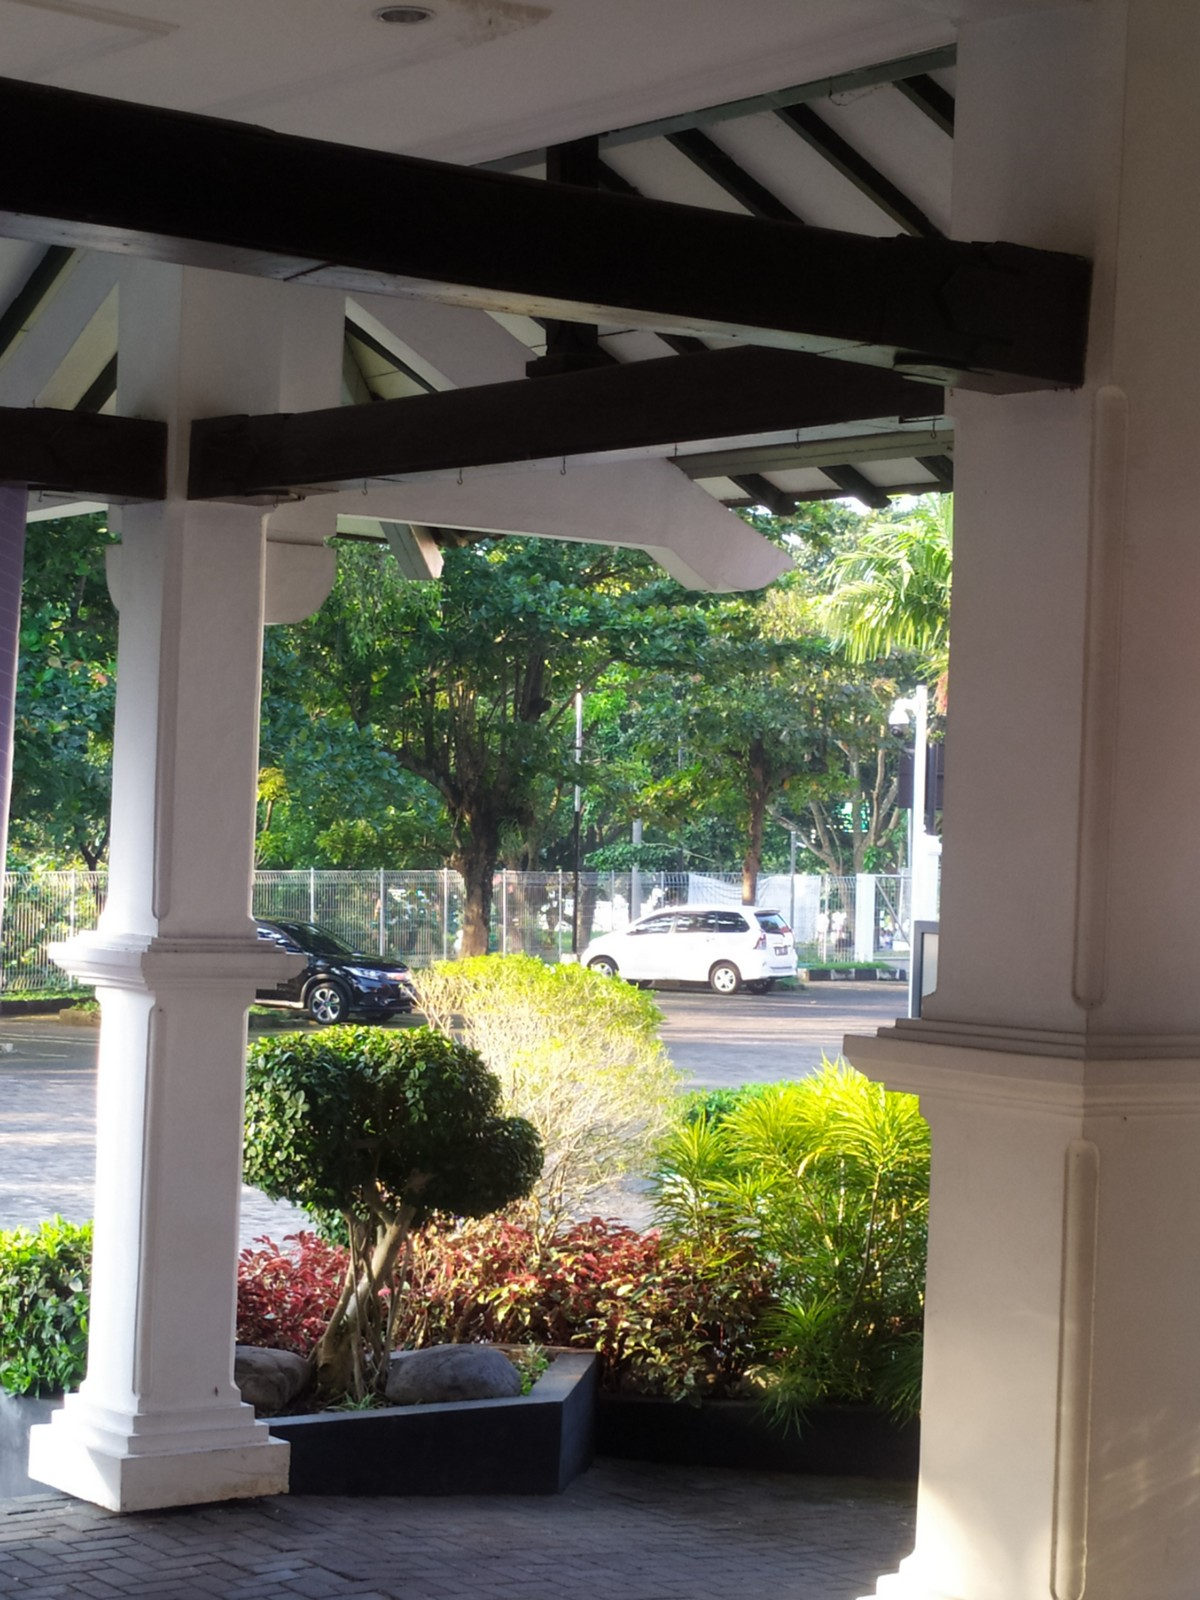concrete column: (72, 496, 282, 1407)
